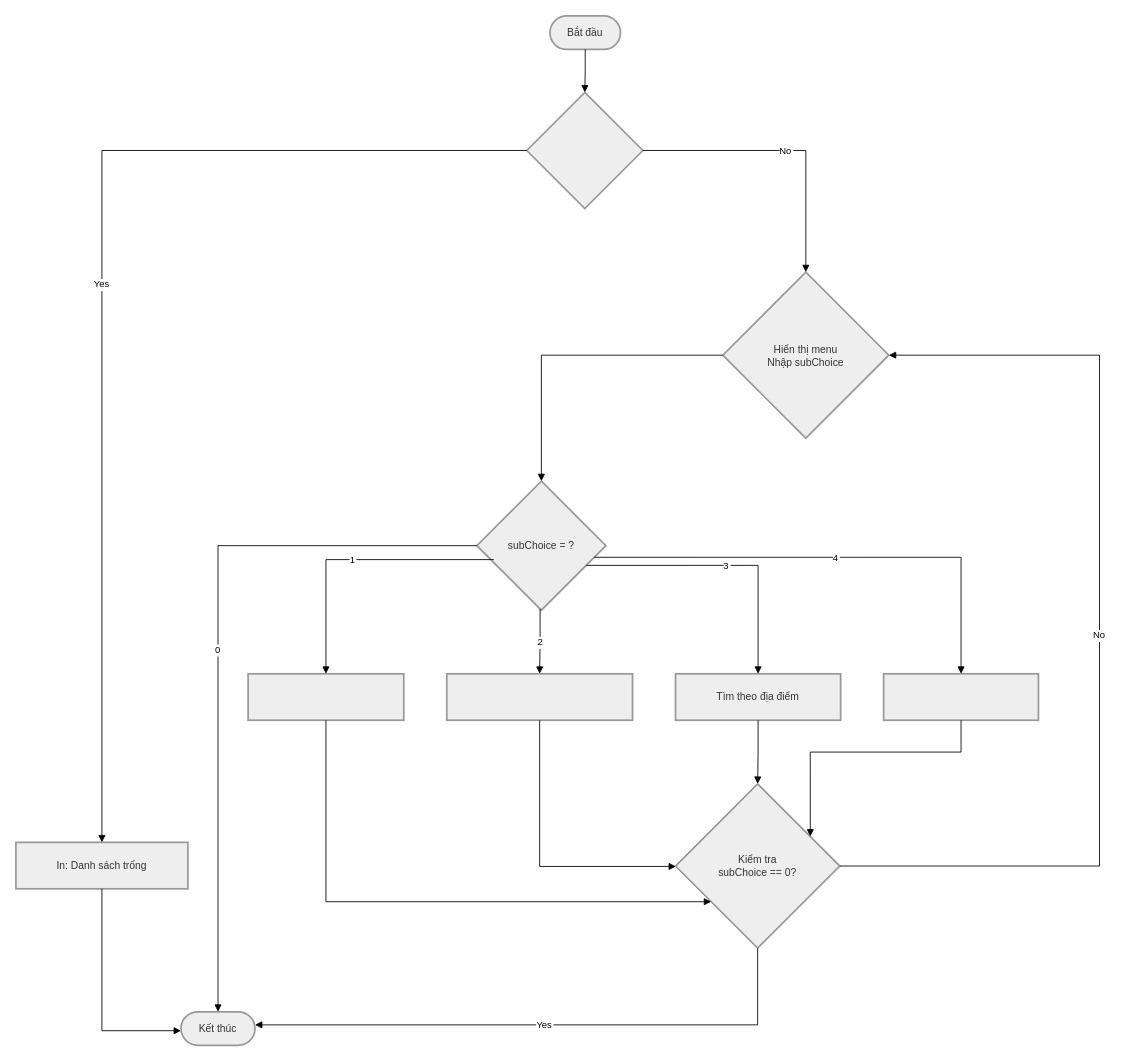
Some shapes in this 1121 by 1060 pixel diagram are drawn without their labels. The shapes that lost their labels are listed below. From the top down, each one's box as (x1, y1, x2, y2) in pixels, then its label:
(525, 91, 643, 209): count == 0?
(247, 673, 404, 721): Tìm theo tiêu đề
(445, 673, 633, 721): Tìm theo ID
(882, 673, 1039, 721): Tìm theo đối tác
